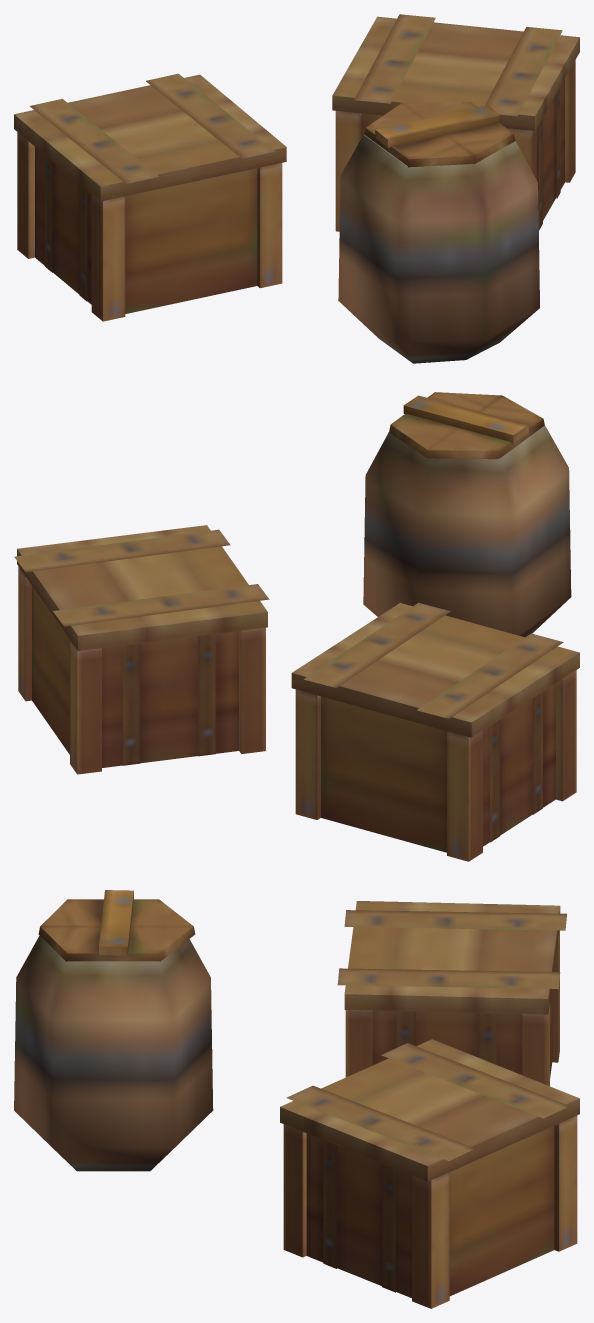
The model's file is area_06_17.fbx.
3 renders of one model, top to bottom at view 1: azimuth 30°, elevation 25°; view 2: azimuth 150°, elevation 25°; view 3: azimuth 270°, elevation 25°, orthographic. The views are drawn at different scales.
Parts seen in each view (by area): view 1: area_06_17; view 2: area_06_17; view 3: area_06_17.
Boxes of the visible parts, x1=… form: area_06_17: x1=14, y1=14, x2=579, y2=363; area_06_17: x1=14, y1=392, x2=579, y2=861; area_06_17: x1=14, y1=890, x2=579, y2=1308.
Size of the model in its own units: 2.78 by 1.18 by 2.5.
